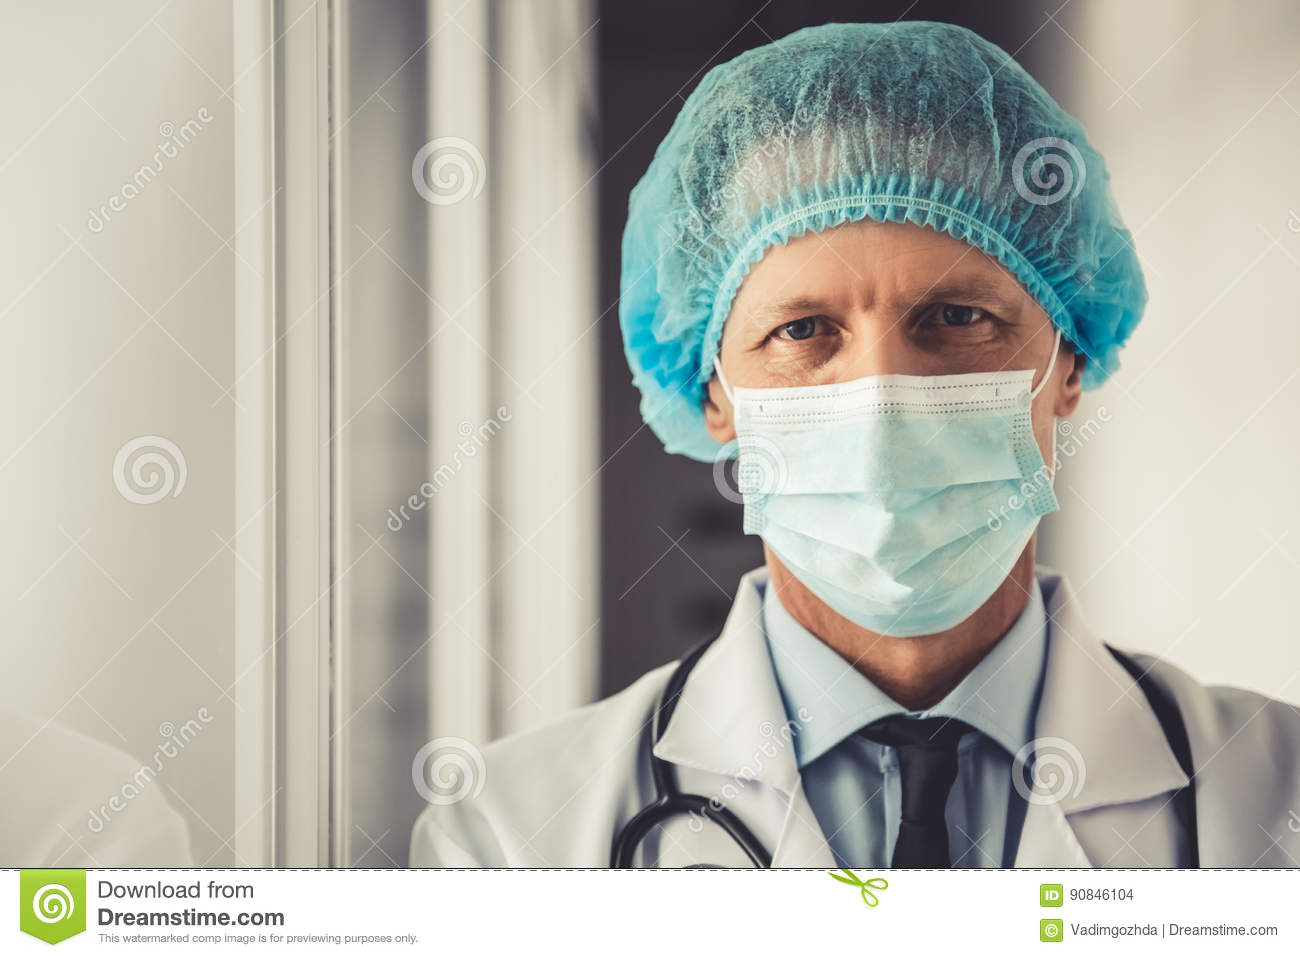mask: (723, 374, 1075, 651)
